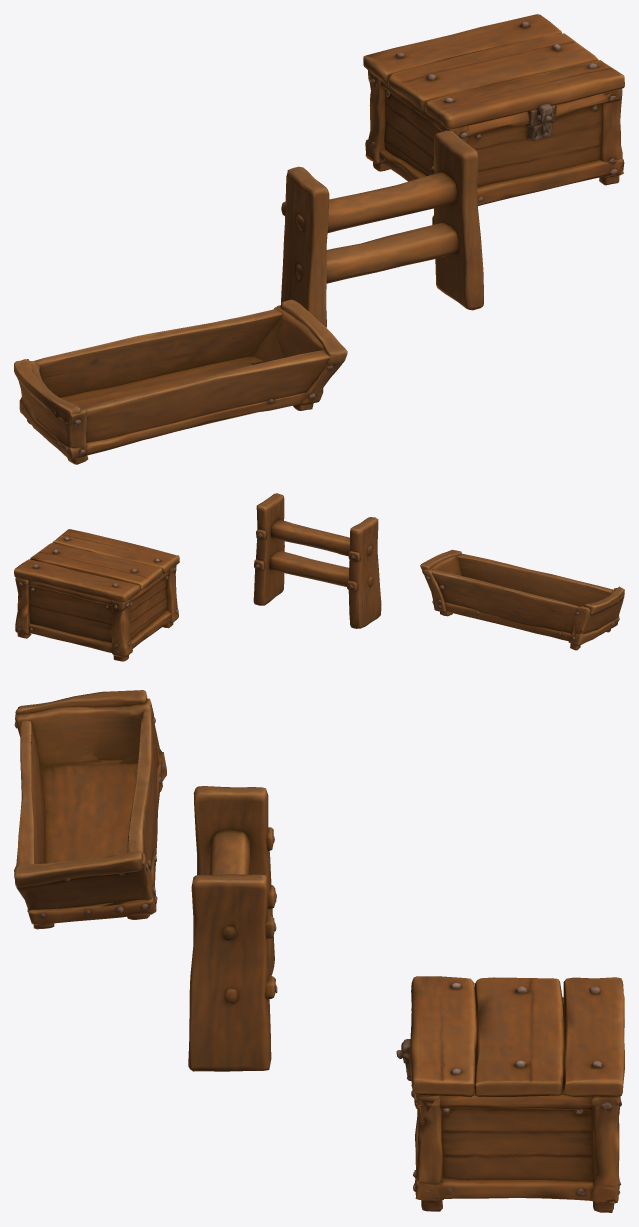
File: sumicio_travariza.glb
3 views of the same model, one above another, from view 1: azimuth 30°, elevation 25°; view 2: azimuth 150°, elevation 25°; view 3: azimuth 270°, elevation 25° (orthographic). The views are drawn at different scales.
Visible parts, largest first — view 1: Pesebre, Tabique, CofreTapa, CofreBase; view 2: Pesebre, Tabique, CofreBase, CofreTapa; view 3: Pesebre, CofreTapa, Tabique, CofreBase.
Boxes of the visible parts, x1,y1,x2,y2 form: Pesebre: (14, 299, 347, 464); Tabique: (281, 130, 483, 327); CofreTapa: (363, 14, 624, 137); CofreBase: (365, 77, 624, 205); Pesebre: (420, 549, 624, 650); Tabique: (253, 493, 381, 628); CofreBase: (15, 570, 178, 661); CofreTapa: (14, 529, 179, 607); Pesebre: (14, 690, 166, 929); CofreTapa: (396, 976, 624, 1105); Tabique: (188, 786, 277, 1071); CofreBase: (399, 1011, 621, 1212).
Size of the model in its own units: 0.9675 by 0.2039 by 0.5832.
Materials: 2 (1 with a texture image).
